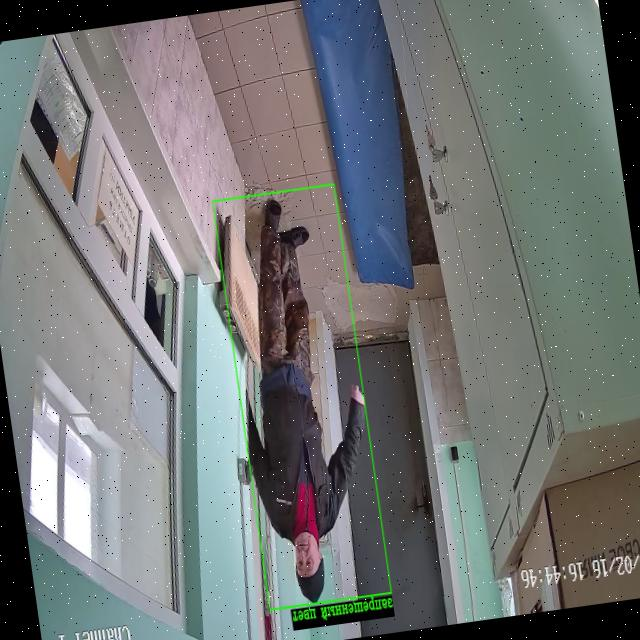Person: (247, 202, 365, 602)
